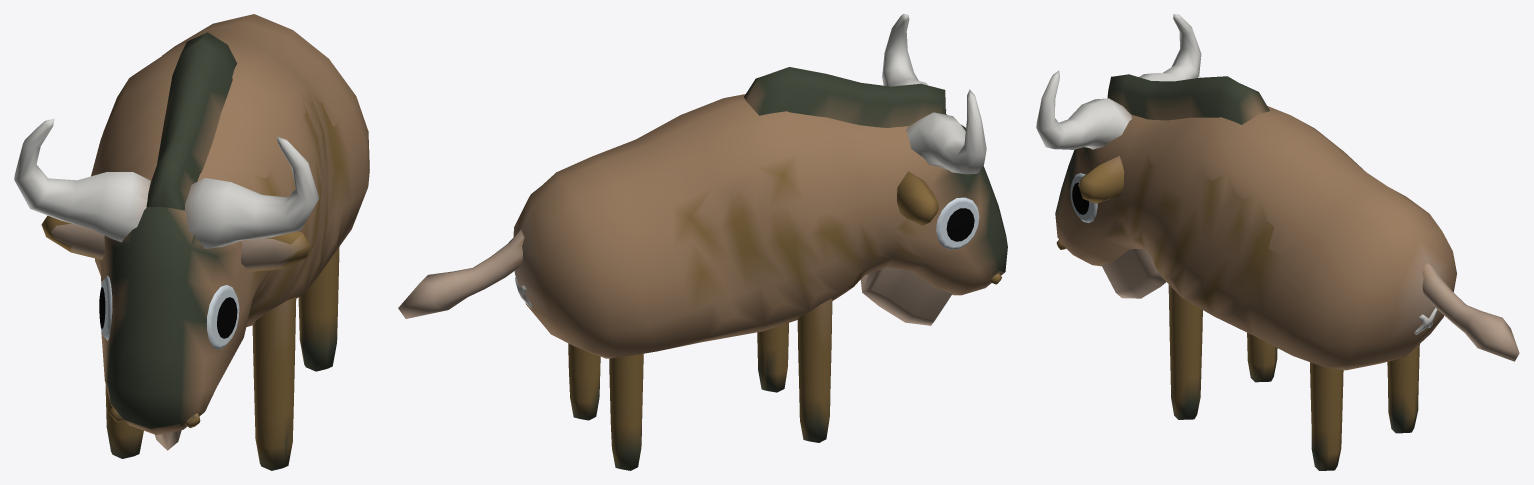
The model's file is Wildebeest.glb.
3 renders of one model, left to right at view 1: azimuth 30°, elevation 25°; view 2: azimuth 150°, elevation 25°; view 3: azimuth 270°, elevation 25°, orthographic. The views are drawn at different scales.
Parts seen in each view (by area): view 1: 174; view 2: 174; view 3: 174.
Part boxes in pixels (x1,y1,x2,y2): 174: (14, 14, 369, 470); 174: (398, 14, 1007, 470); 174: (1036, 14, 1519, 470).
Bounding box in the file's own units: 1.11 × 0.9053 × 1.22.
